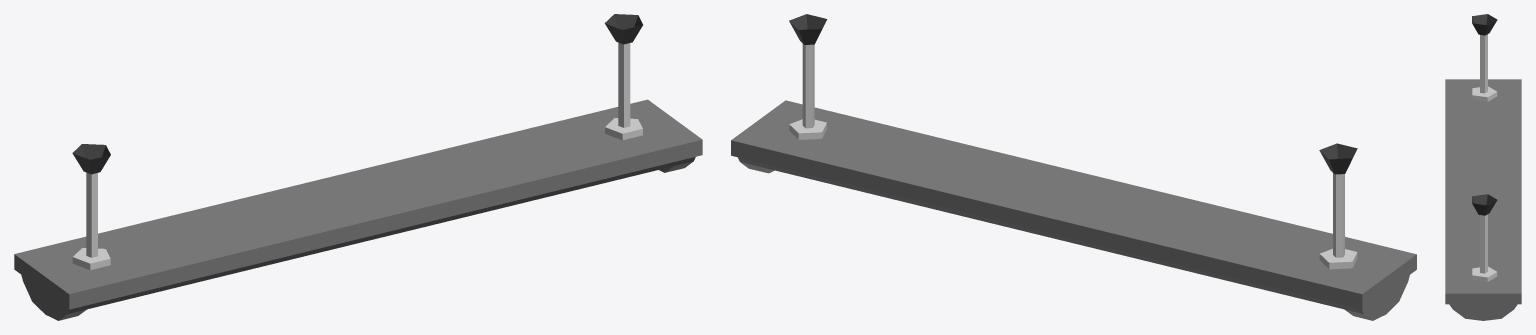
File: Int_Light02.fbx
3 views of the same model, side by side, from view 1: azimuth 30°, elevation 25°; view 2: azimuth 150°, elevation 25°; view 3: azimuth 270°, elevation 25° (orthographic). The views are drawn at different scales.
Visible parts, largest first — view 1: Int_Light02; view 2: Int_Light02; view 3: Int_Light02.
Part boxes in pixels (left/top/right/bottom): Int_Light02: left=14, top=14, right=702, bottom=320; Int_Light02: left=731, top=14, right=1416, bottom=320; Int_Light02: left=1445, top=14, right=1521, bottom=320.
Size of what is drawn, in the model's own units: 200 by 30 by 45.79.
